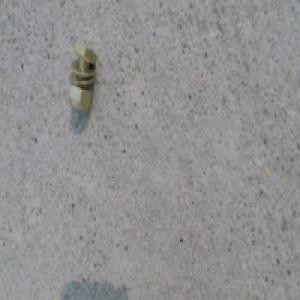BoltNutSet: (70, 46, 98, 115)
